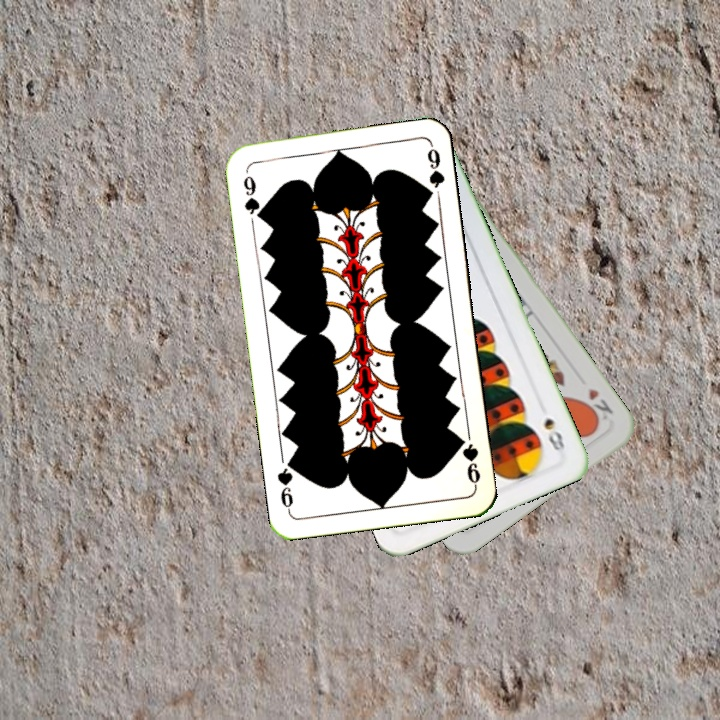G9: (453, 432, 483, 490), (239, 171, 266, 223)
HK: (579, 384, 616, 426)
S8: (539, 414, 567, 454)
